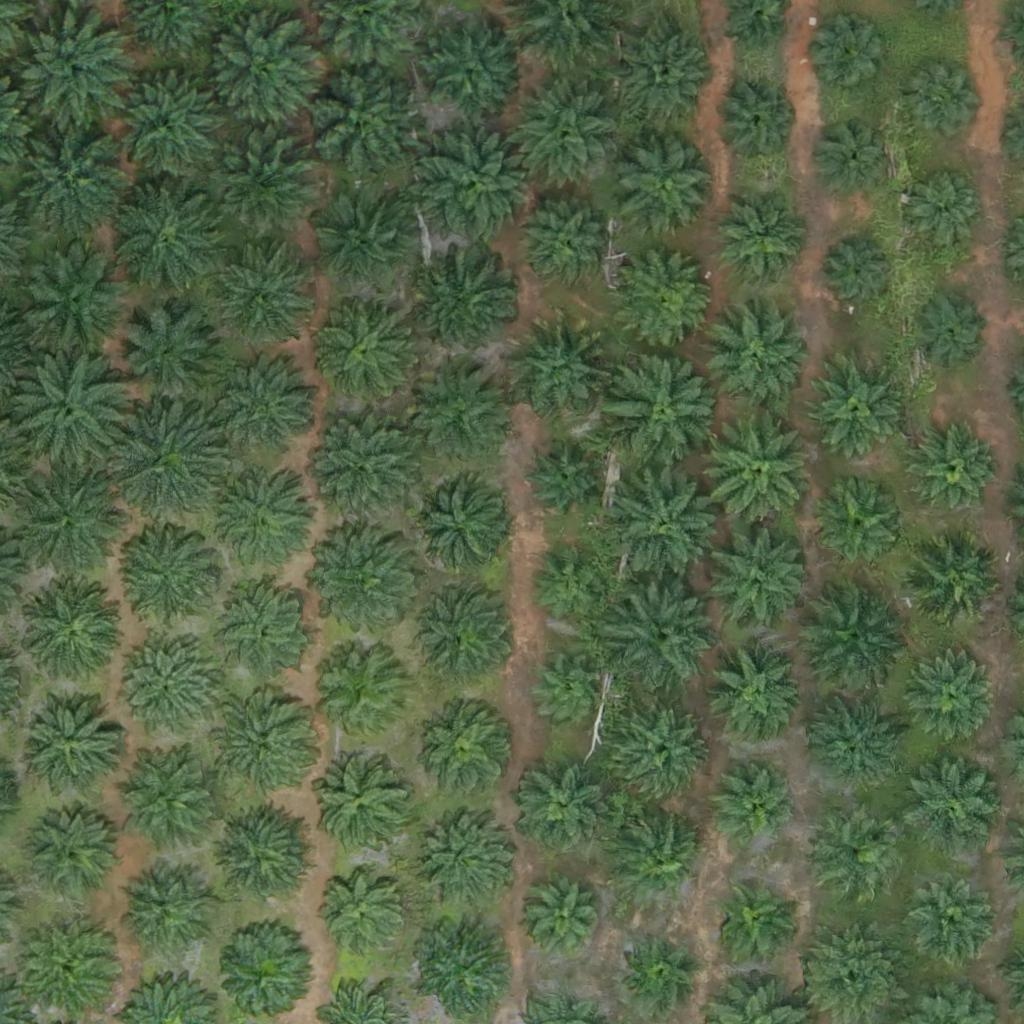Kelapa_Sawit: (2, 113, 127, 239), (12, 344, 137, 470), (107, 175, 232, 301), (102, 400, 227, 526), (295, 59, 420, 185), (300, 406, 425, 532), (415, 123, 540, 249), (502, 72, 627, 198), (604, 348, 729, 474), (604, 461, 729, 587), (696, 408, 821, 534), (8, 458, 133, 584), (103, 67, 228, 192), (16, 13, 129, 126), (17, 245, 130, 358), (112, 301, 225, 414), (211, 355, 324, 468), (606, 578, 719, 691), (303, 530, 416, 643), (199, 463, 312, 576), (797, 581, 909, 695), (205, 16, 317, 129), (206, 128, 318, 241), (315, 195, 415, 296), (316, 296, 416, 397), (423, 251, 523, 352), (411, 356, 511, 457), (514, 319, 614, 420), (802, 804, 902, 905), (705, 641, 805, 742), (611, 699, 711, 800), (607, 815, 707, 916), (512, 758, 612, 859), (407, 473, 507, 574), (409, 585, 509, 686), (417, 697, 517, 798), (412, 802, 512, 903), (413, 918, 513, 1019), (312, 642, 412, 743), (214, 583, 314, 684), (212, 694, 312, 795), (115, 527, 215, 628), (421, 20, 521, 120), (615, 28, 715, 128), (615, 135, 715, 235), (617, 252, 717, 352), (708, 308, 808, 408), (802, 359, 902, 459), (905, 535, 1005, 635), (899, 650, 999, 750), (903, 759, 1003, 859), (710, 527, 810, 627), (207, 810, 307, 910), (212, 919, 312, 1019), (117, 636, 217, 736), (116, 747, 216, 847), (114, 861, 214, 961), (20, 585, 120, 685), (20, 695, 120, 795), (22, 807, 122, 907), (311, 756, 410, 857), (218, 251, 306, 339), (717, 198, 805, 286), (909, 879, 997, 967), (815, 483, 903, 571), (809, 700, 897, 788), (712, 77, 799, 165), (523, 202, 610, 290), (911, 427, 998, 515), (710, 879, 797, 967), (318, 866, 405, 954), (906, 168, 981, 244), (816, 116, 891, 192), (821, 235, 896, 311), (910, 291, 985, 367), (814, 19, 889, 94), (907, 61, 982, 136), (533, 652, 608, 727), (532, 548, 607, 623), (525, 445, 600, 520), (714, 771, 789, 846), (621, 938, 696, 1013), (521, 881, 596, 956)
